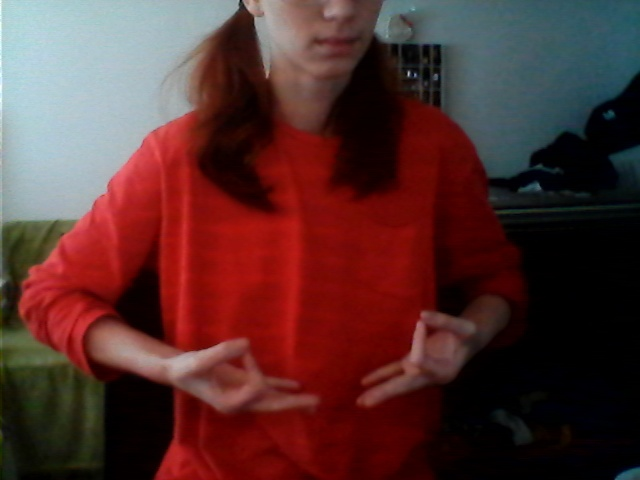preco: (161, 294, 489, 427)
